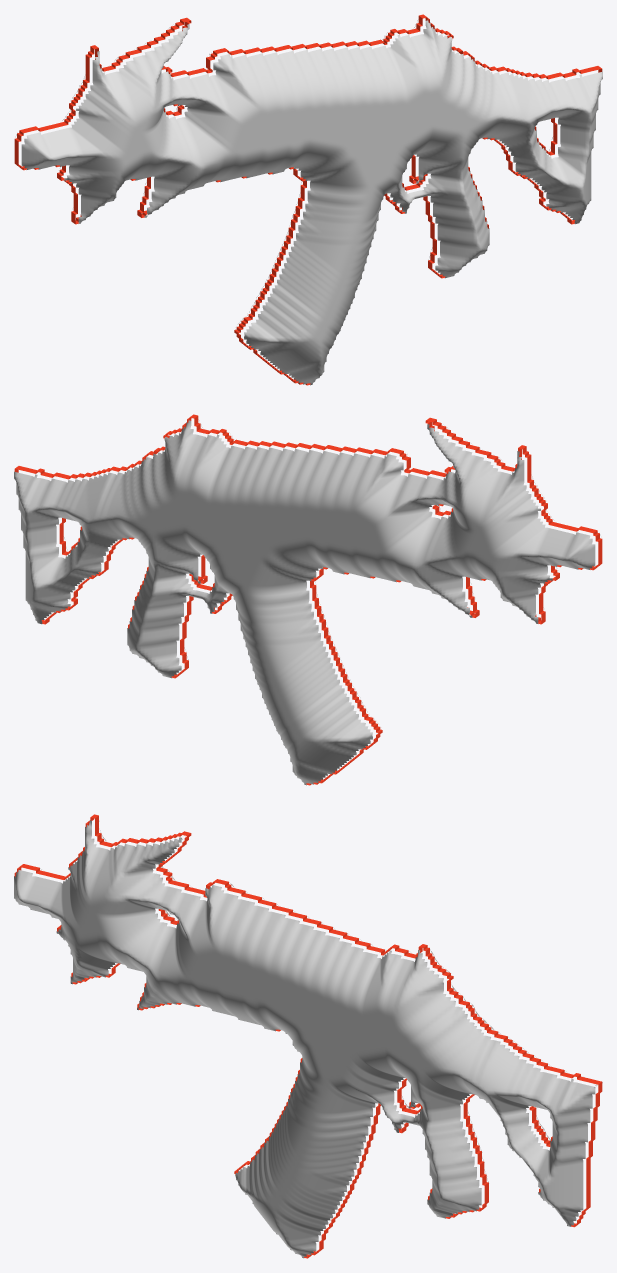
Rendered from val-elderflame-vandal-relief.glb.
3 renders of one model, top to bottom at view 1: azimuth 30°, elevation 25°; view 2: azimuth 150°, elevation 25°; view 3: azimuth 330°, elevation 25°, orthographic.
Visible parts, largest first — view 1: projected-skin, silhouette-edge; view 2: projected-skin, silhouette-edge; view 3: projected-skin, silhouette-edge.
Part boxes in pixels (x1,y1,x2,y2): projected-skin: [16, 20, 602, 385]; silhouette-edge: [14, 14, 602, 385]; projected-skin: [14, 420, 600, 785]; silhouette-edge: [14, 414, 602, 785]; projected-skin: [14, 820, 602, 1258]; silhouette-edge: [14, 814, 602, 1258].
Bounding box in the file's own units: 0.9686 × 0.6235 × 0.132.
